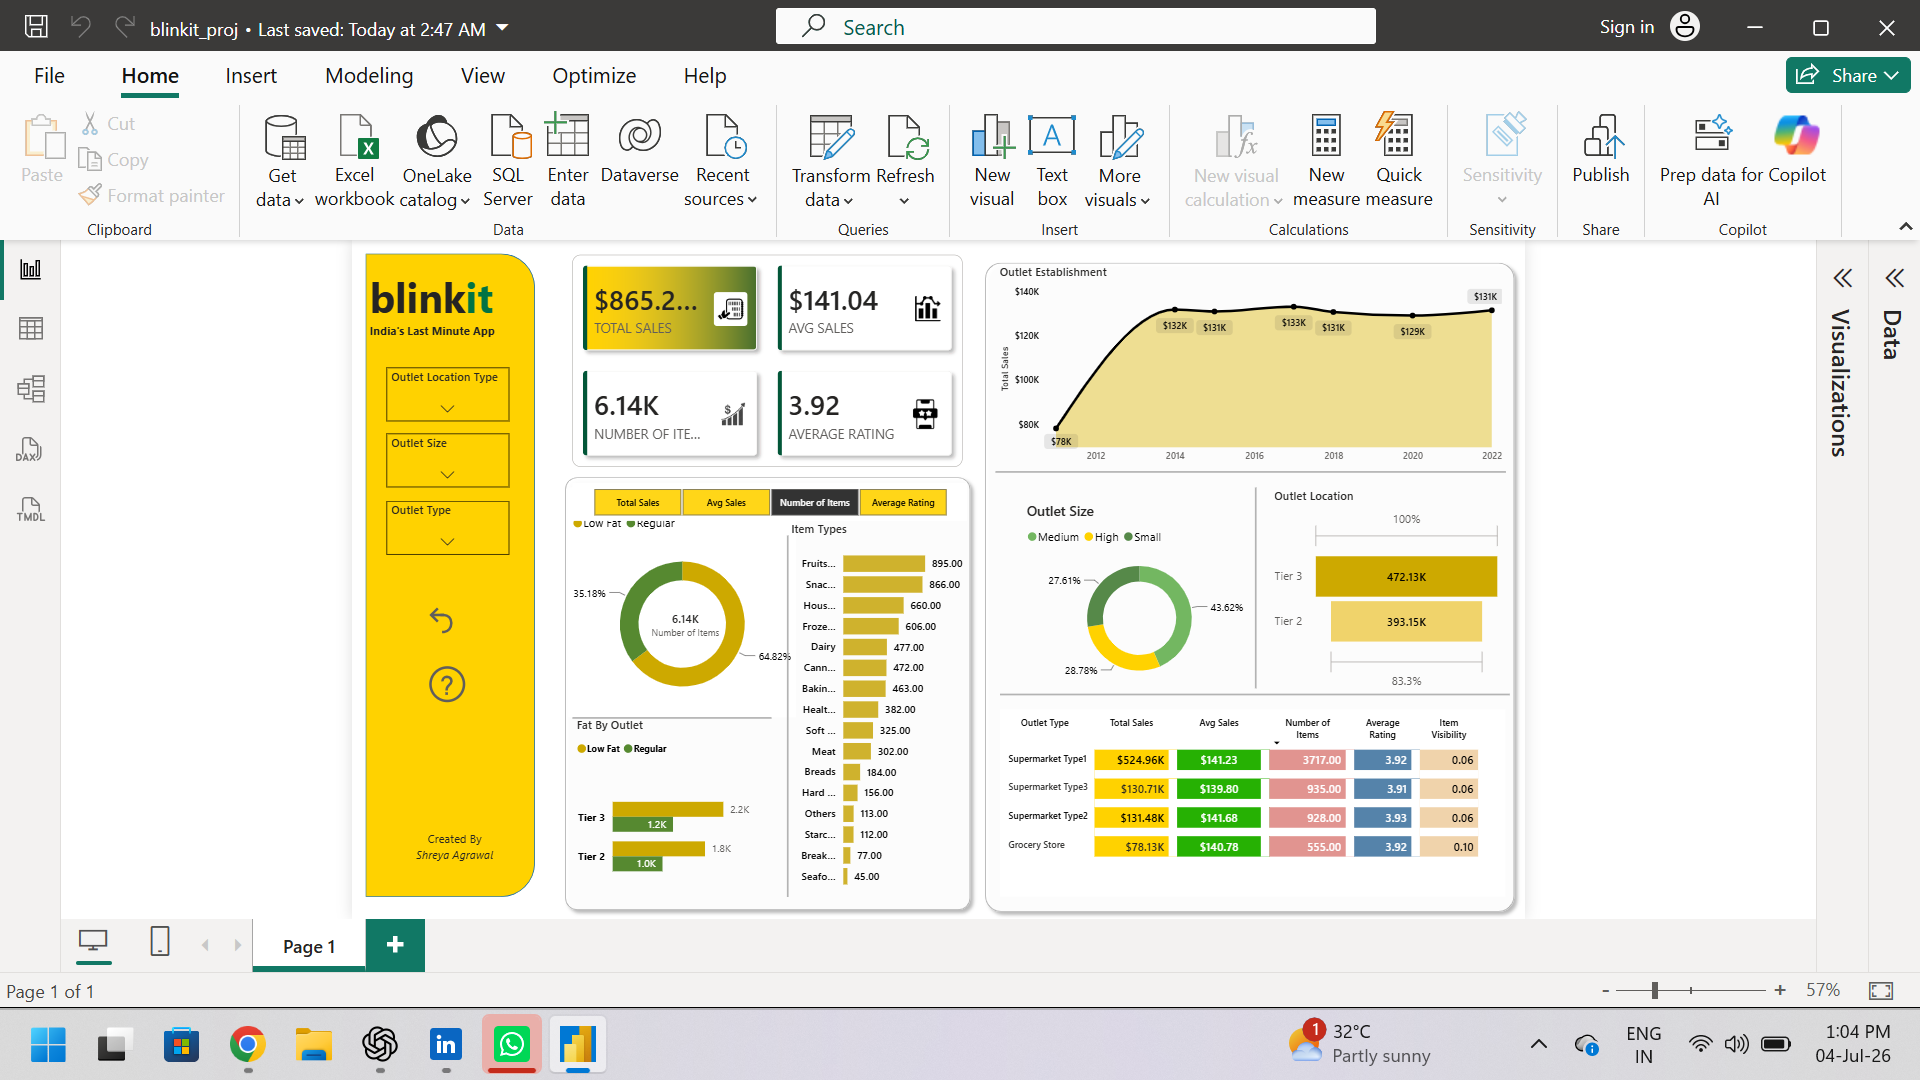

The dashboard page shown, as its layout file describes it:
{"tool":"powerbi","page":{"name":"Page 1","canvas":[1381,800],"ordinal":0},"visuals":[{"type":"shape","box":[15.9,15.9,199.7,758.2],"z":0},{"type":"textbox","box":[15.9,28.3,169.7,83.1],"z":1000},{"type":"textbox","box":[15.9,91.9,199.7,33.6],"z":2000},{"type":"cardVisual","fields":{"Data":["BlinkIT Grocery Data.Total Sales","BlinkIT Grocery Data.Avg Sales","BlinkIT Grocery Data.Number of Items","BlinkIT Grocery Data.Average Rating"]},"box":[242.6,0,495.5,285.4],"z":3000},{"type":"shape","box":[242.6,271.2,495.5,528.1],"z":4000},{"type":"donutChart","title":"Fat Content","fields":{"Y":["BlinkIT Grocery Data.Number of Items"],"Category":["BlinkIT Grocery Data.Item Fat Content"]},"box":[254.5,291.6,268.6,270.4],"z":5000},{"type":"slicer","fields":{"Values":["Metrics.Metrics"]},"box":[258.9,285.4,464.9,44.9],"z":6000},{"type":"cardVisual","fields":{"Data":["BlinkIT Grocery Data.Number of Items"]},"box":[299.7,399.6,185.5,106],"z":7000},{"type":"clusteredBarChart","title":"Fat By Outlet","fields":{"Y":["BlinkIT Grocery Data.Number of Items"],"Category":["BlinkIT Grocery Data.Outlet Location Type"],"Series":["BlinkIT Grocery Data.Item Fat Content"]},"box":[258.9,562.7,232.4,230.4],"z":8000},{"type":"shape","box":[258.9,528.1,234.5,69.3],"z":9000},{"type":"shape","box":[503.7,348.2,19.4,425.9],"z":10000},{"type":"barChart","title":"Item Types","fields":{"Y":["BlinkIT Grocery Data.Number of Items"],"Category":["BlinkIT Grocery Data.Item Type"]},"box":[512.5,330.5,212.1,443.6],"z":11000},{"type":"shape","box":[737,17.7,641.5,782.9],"z":12000},{"type":"lineChart","title":"Outlet Establishment","fields":{"Category":["BlinkIT Grocery Data.Outlet Establishment Year"],"Y":["BlinkIT Grocery Data.Total Sales"]},"box":[758.5,28.5,601.5,242.6],"z":13000},{"type":"shape","box":[758.5,238.6,601.5,69.3],"z":14000},{"type":"donutChart","title":"Outlet Size","fields":{"Y":["BlinkIT Grocery Data.Total Sales"],"Category":["BlinkIT Grocery Data.Outlet Size"]},"box":[790,307.5,275,225],"z":15000},{"type":"shape","box":[1051.6,291.6,26.5,236.8],"z":16000},{"type":"funnel","title":"Outlet Location ","fields":{"Category":["BlinkIT Grocery Data.Outlet Location Type"],"Y":["Sum(BlinkIT Grocery Data.Sales)"]},"box":[1081.6,291.6,277.5,243.9],"z":17000},{"type":"shape","box":[763.5,516.1,600.9,38.9],"z":18000},{"type":"pivotTable","fields":{"Rows":["BlinkIT Grocery Data.Outlet Type"],"Values":["BlinkIT Grocery Data.Total Sales","BlinkIT Grocery Data.Avg Sales","BlinkIT Grocery Data.Number of Items","BlinkIT Grocery Data.Average Rating","Avg(BlinkIT Grocery Data.Item Visibility)"]},"box":[763.5,553.2,595.6,220.9],"z":19000},{"type":"listSlicer","fields":{"Values":["BlinkIT Grocery Data.Outlet Location Type"]},"box":[40.6,150.2,144.9,63.6],"z":20000},{"type":"listSlicer","fields":{"Values":["BlinkIT Grocery Data.Outlet Size"]},"box":[40.6,228,144.9,63.6],"z":21000},{"type":"listSlicer","fields":{"Values":["BlinkIT Grocery Data.Outlet Type"]},"box":[40.6,307.5,144.9,63.6],"z":22000},{"type":"textbox","box":[40.6,691,160.8,67.2],"z":23000},{"type":"actionButton","box":[84.8,427.7,53,40.6],"z":24000},{"type":"actionButton","box":[84.8,491.3,54.8,63.6],"z":25000}]}

Visuals, with their boxes on the page's 1381x800 design canvas (x1, y1, x2, y2). These are canvas units, not pixel positions in the 1920x1080 screenshot, which may show the page scaled, cropped or inside an application window:
shape: (16,16,216,774)
textbox: (16,28,186,111)
textbox: (16,92,216,126)
cardVisual - BlinkIT Grocery Data.Total Sales x BlinkIT Grocery Data.Avg Sales: (243,0,738,285)
shape: (243,271,738,799)
"Fat Content" donutChart: (254,292,523,562)
slicer - Metrics.Metrics: (259,285,724,330)
cardVisual - BlinkIT Grocery Data.Number of Items: (300,400,485,506)
"Fat By Outlet" clusteredBarChart: (259,563,491,793)
shape: (259,528,493,597)
shape: (504,348,523,774)
"Item Types" barChart: (512,330,725,774)
shape: (737,18,1378,801)
"Outlet Establishment" lineChart: (758,28,1360,271)
shape: (758,239,1360,308)
"Outlet Size" donutChart: (790,308,1065,532)
shape: (1052,292,1078,528)
"Outlet Location " funnel: (1082,292,1359,536)
shape: (764,516,1364,555)
pivotTable - BlinkIT Grocery Data.Outlet Type x BlinkIT Grocery Data.Total Sales: (764,553,1359,774)
listSlicer - BlinkIT Grocery Data.Outlet Location Type: (41,150,186,214)
listSlicer - BlinkIT Grocery Data.Outlet Size: (41,228,186,292)
listSlicer - BlinkIT Grocery Data.Outlet Type: (41,308,186,371)
textbox: (41,691,201,758)
actionButton: (85,428,138,468)
actionButton: (85,491,140,555)
